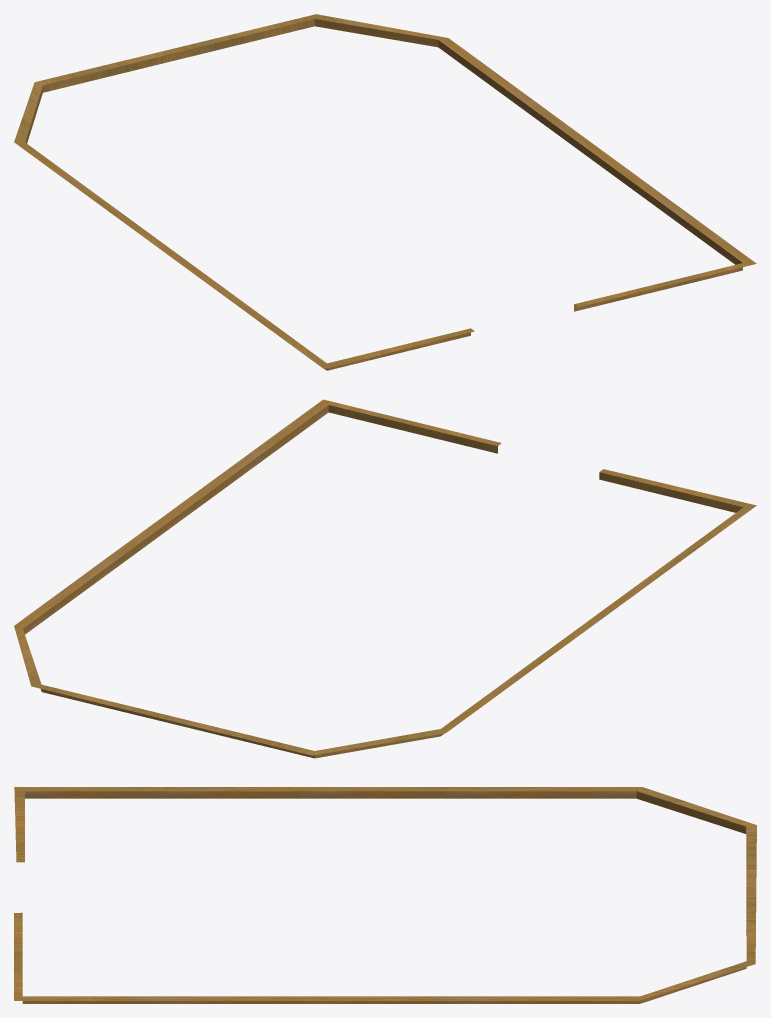
The model's file is lawyer skirting.FBX.
The picture shows the model from 3 angles, top to bottom: view 1: azimuth 30°, elevation 25°; view 2: azimuth 150°, elevation 25°; view 3: azimuth 270°, elevation 25°; orthographic projection.
Parts seen in each view (by area): view 1: Skirting; view 2: Skirting; view 3: Skirting.
Part boxes in pixels (<box>): Skirting: <box>14,14,756,370</box>; Skirting: <box>14,399,756,758</box>; Skirting: <box>14,787,756,1003</box>.
Bounding box in the file's own units: 161 × 2.65 × 236.
1 material, 1 textured.
